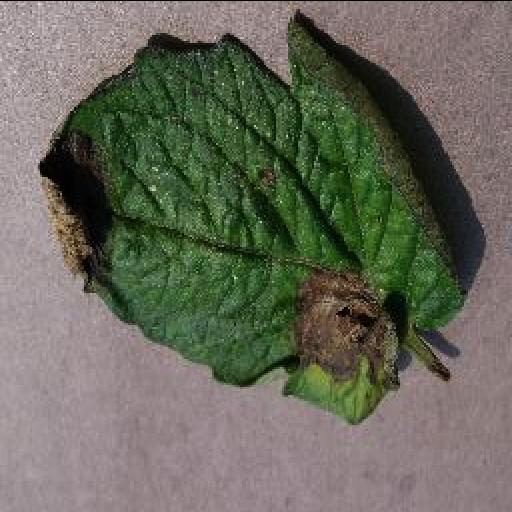disease_tomato: (36, 16, 466, 426)
